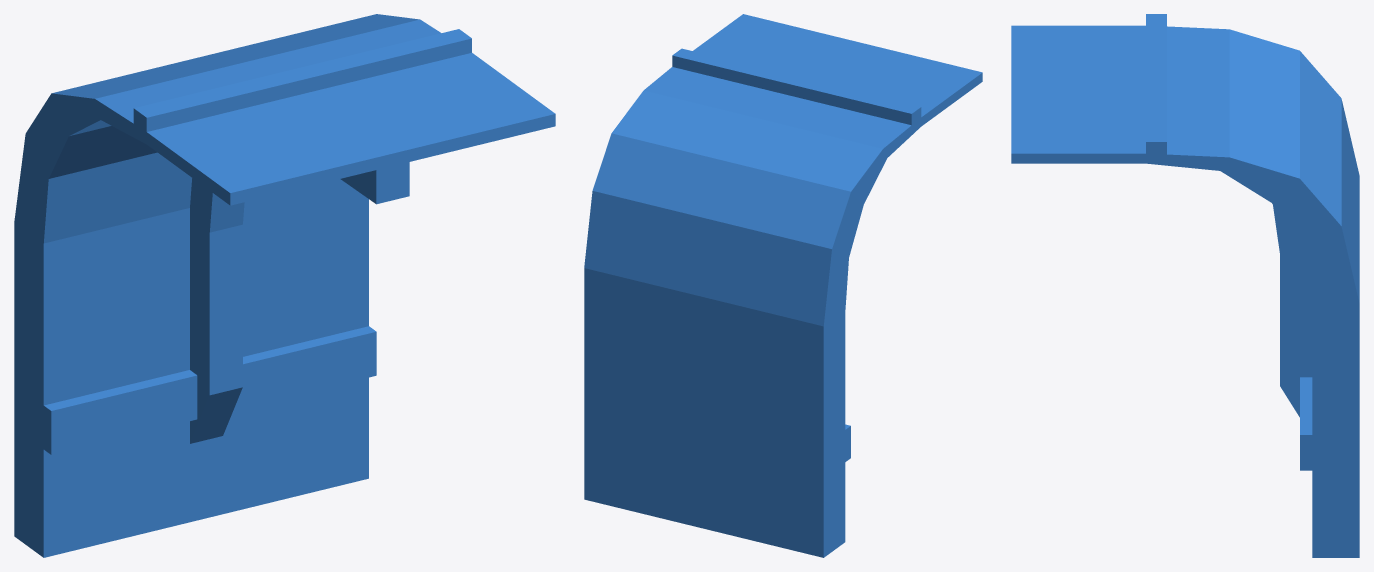
The model's file is Collision_Overhang_WoodenWear_Long.fbx.
3 views of the same model, side by side, from view 1: azimuth 30°, elevation 25°; view 2: azimuth 150°, elevation 25°; view 3: azimuth 270°, elevation 25° (orthographic). The views are drawn at different scales.
Visible parts, largest first — view 1: UCX_Overhang_WoodenWear_Long_01; view 2: UCX_Overhang_WoodenWear_Long_01; view 3: UCX_Overhang_WoodenWear_Long_01.
Part boxes in pixels (left/top/right/bottom): UCX_Overhang_WoodenWear_Long_01: left=14, top=14, right=555, bottom=557; UCX_Overhang_WoodenWear_Long_01: left=584, top=14, right=982, bottom=557; UCX_Overhang_WoodenWear_Long_01: left=1011, top=14, right=1359, bottom=557.
Size of the model in its own units: 200 by 303 by 230.
